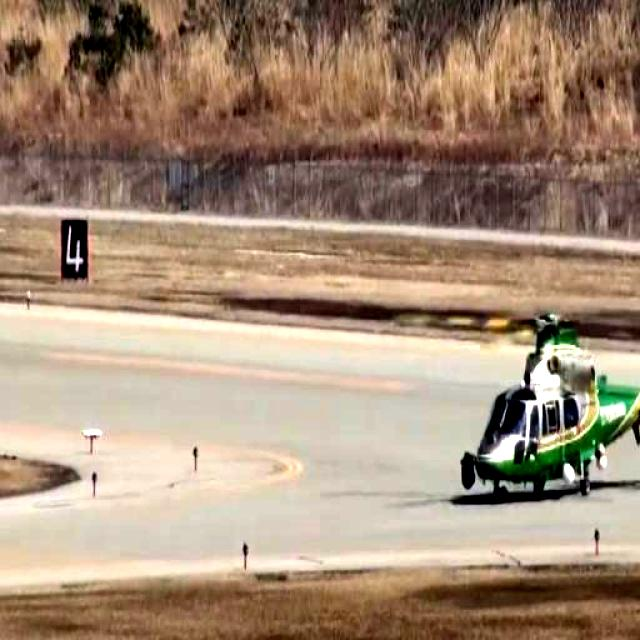drone: (445, 264, 640, 510)
